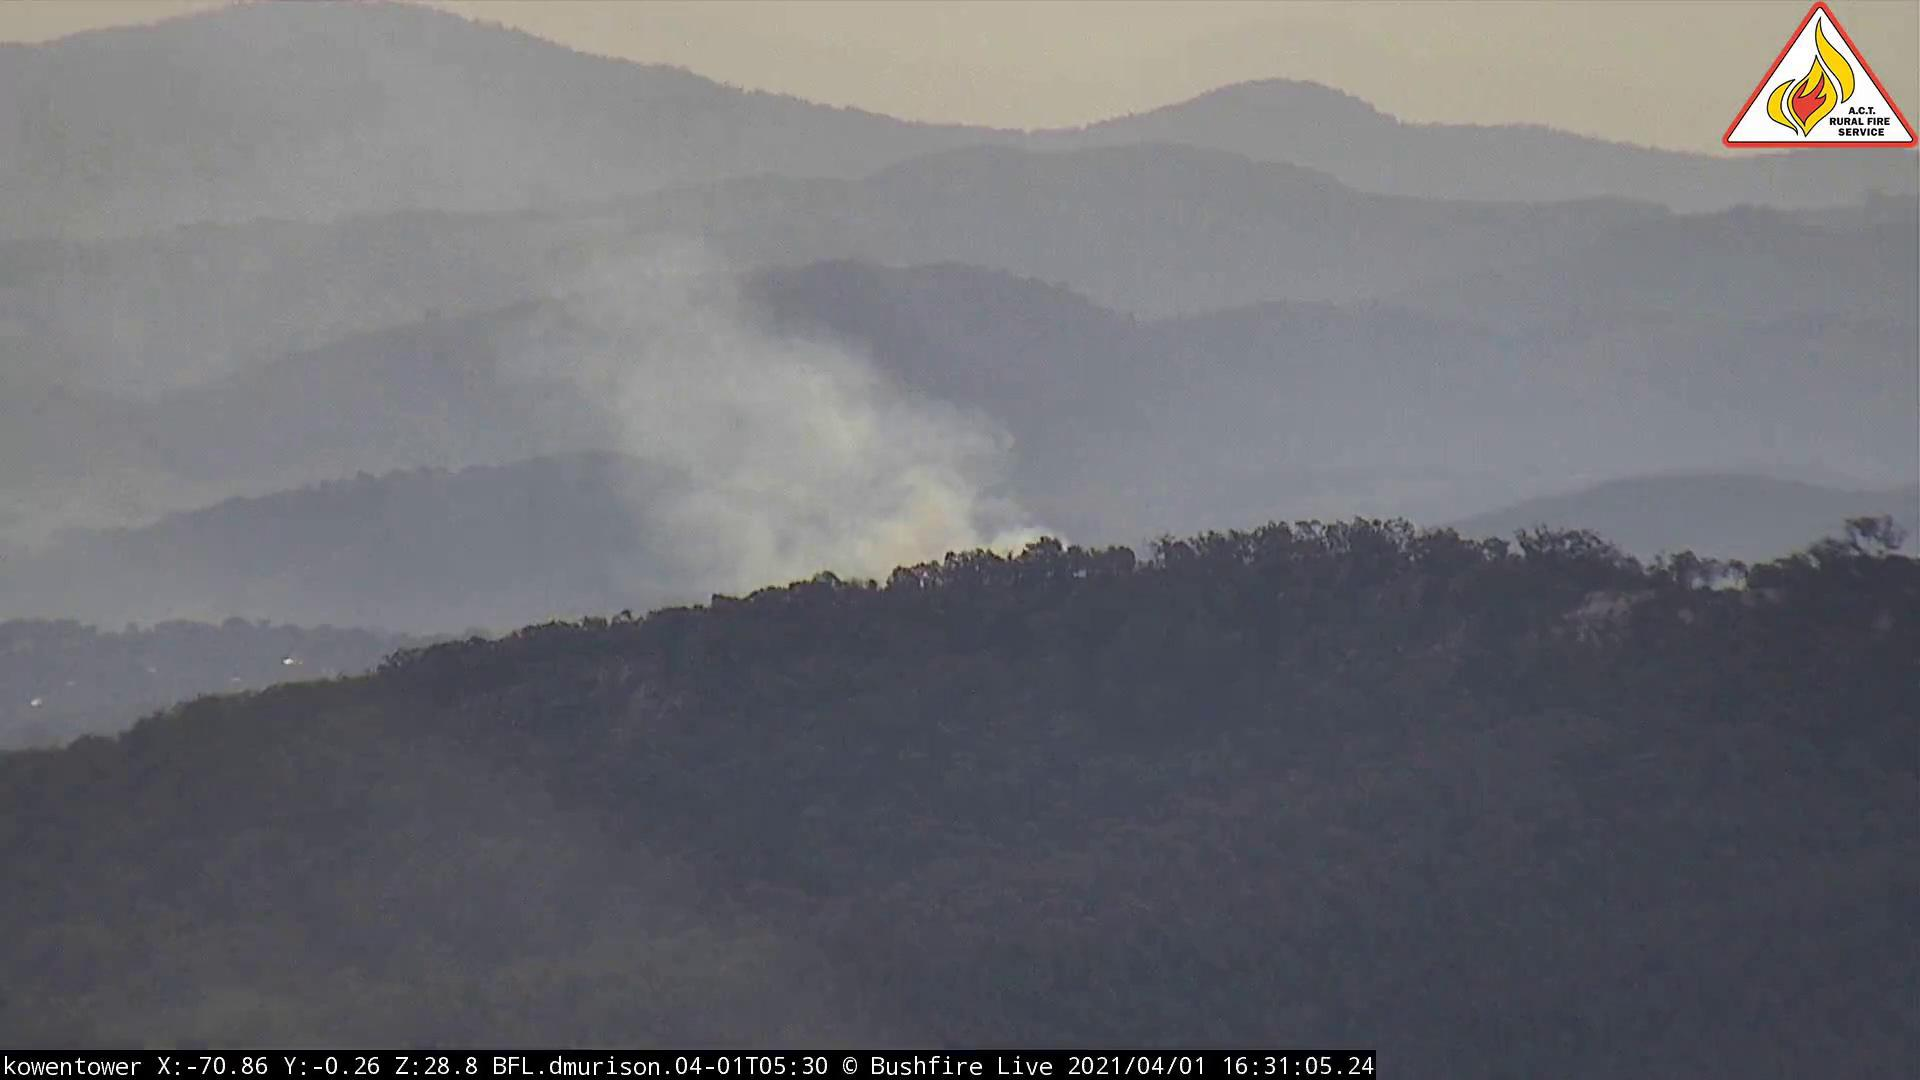Smoke: (447, 187, 1081, 585)
